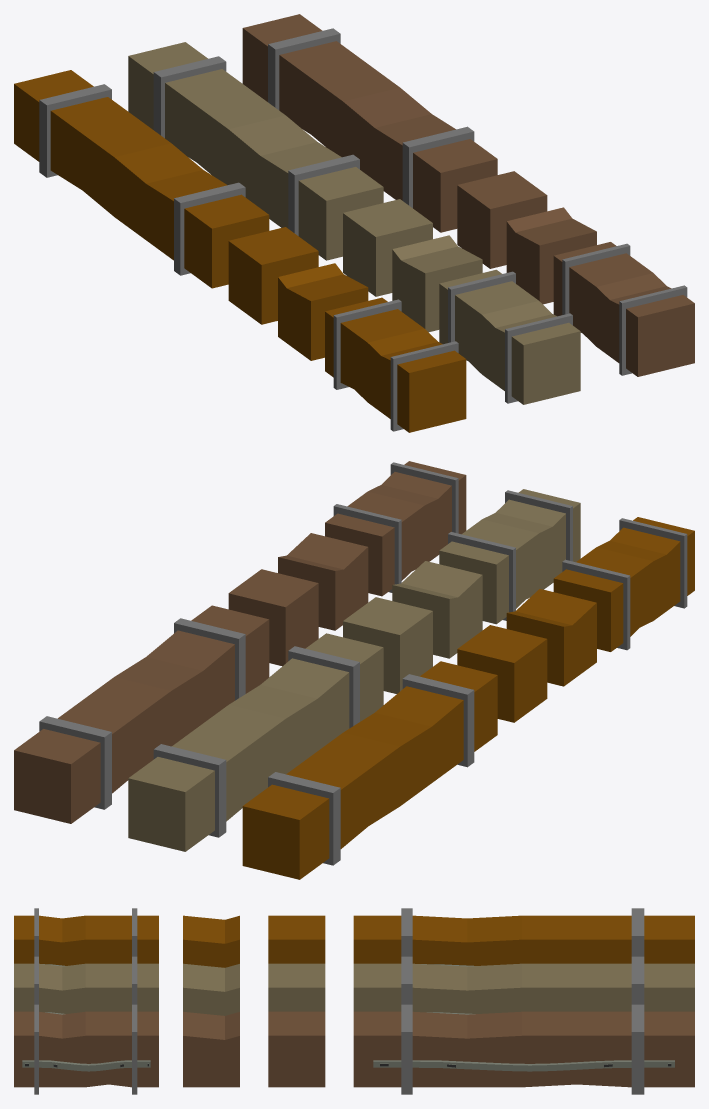
File: WoodPlatform.glb
The picture shows the model from 3 angles, top to bottom: view 1: azimuth 30°, elevation 25°; view 2: azimuth 150°, elevation 25°; view 3: azimuth 270°, elevation 25°; orthographic projection. The views are drawn at different scales.
Visible parts, largest first — view 1: WoodPlatform.004, WoodPlatform, WoodPlatform.002, WoodPlatform.005, WoodPlatform.001, WoodPlatform.003, Cube.115, Cube.005, Cube.073, Cube.116, Cube.104, Cube.072; view 2: WoodPlatform.004, WoodPlatform.002, WoodPlatform, WoodPlatform.005, WoodPlatform.001, WoodPlatform.003, Cube.115, Cube.116, Cube.072, Cube.104, Cube.005, Cube.073; view 3: WoodPlatform, WoodPlatform.004, WoodPlatform.002, WoodPlatform.001, WoodPlatform.005, WoodPlatform.003, Cube.005, Cube.072, Cube.073, Cube.115, Cube.104, Cube.116.
Boxes of the visible parts, x1=… form: WoodPlatform.004: x1=14, y1=70, x2=269, y2=288; WoodPlatform: x1=242, y1=14, x2=497, y2=232; WoodPlatform.002: x1=128, y1=42, x2=383, y2=260; WoodPlatform.005: x1=325, y1=297, x2=466, y2=432; WoodPlatform.001: x1=553, y1=242, x2=694, y2=376; WoodPlatform.003: x1=439, y1=269, x2=580, y2=404; Cube.115: x1=228, y1=227, x2=318, y2=324; Cube.005: x1=457, y1=171, x2=547, y2=268; Cube.073: x1=343, y1=199, x2=432, y2=296; Cube.116: x1=278, y1=263, x2=368, y2=360; Cube.104: x1=392, y1=235, x2=482, y2=332; Cube.072: x1=506, y1=207, x2=596, y2=304; WoodPlatform.004: x1=242, y1=661, x2=497, y2=879; WoodPlatform.002: x1=128, y1=633, x2=383, y2=851; WoodPlatform: x1=14, y1=605, x2=269, y2=823; WoodPlatform.005: x1=553, y1=517, x2=694, y2=651; WoodPlatform.001: x1=325, y1=461, x2=466, y2=596; WoodPlatform.003: x1=439, y1=489, x2=580, y2=624; Cube.115: x1=457, y1=625, x2=547, y2=722; Cube.116: x1=506, y1=589, x2=596, y2=686; Cube.072: x1=278, y1=533, x2=368, y2=630; Cube.104: x1=392, y1=561, x2=482, y2=658; Cube.005: x1=228, y1=569, x2=318, y2=666; Cube.073: x1=343, y1=597, x2=432, y2=693; WoodPlatform: x1=353, y1=1004, x2=694, y2=1094; WoodPlatform.004: x1=353, y1=908, x2=694, y2=966; WoodPlatform.002: x1=353, y1=956, x2=694, y2=1014; WoodPlatform.001: x1=14, y1=1004, x2=158, y2=1094; WoodPlatform.005: x1=14, y1=908, x2=158, y2=966; WoodPlatform.003: x1=14, y1=956, x2=158, y2=1014; Cube.005: x1=268, y1=1011, x2=325, y2=1087; Cube.072: x1=183, y1=1011, x2=239, y2=1087; Cube.073: x1=268, y1=963, x2=325, y2=1011; Cube.115: x1=268, y1=915, x2=325, y2=963; Cube.104: x1=183, y1=963, x2=239, y2=1015; Cube.116: x1=183, y1=915, x2=239, y2=967.
Size of the model in its own units: 10.3 by 2.43 by 23.95.
